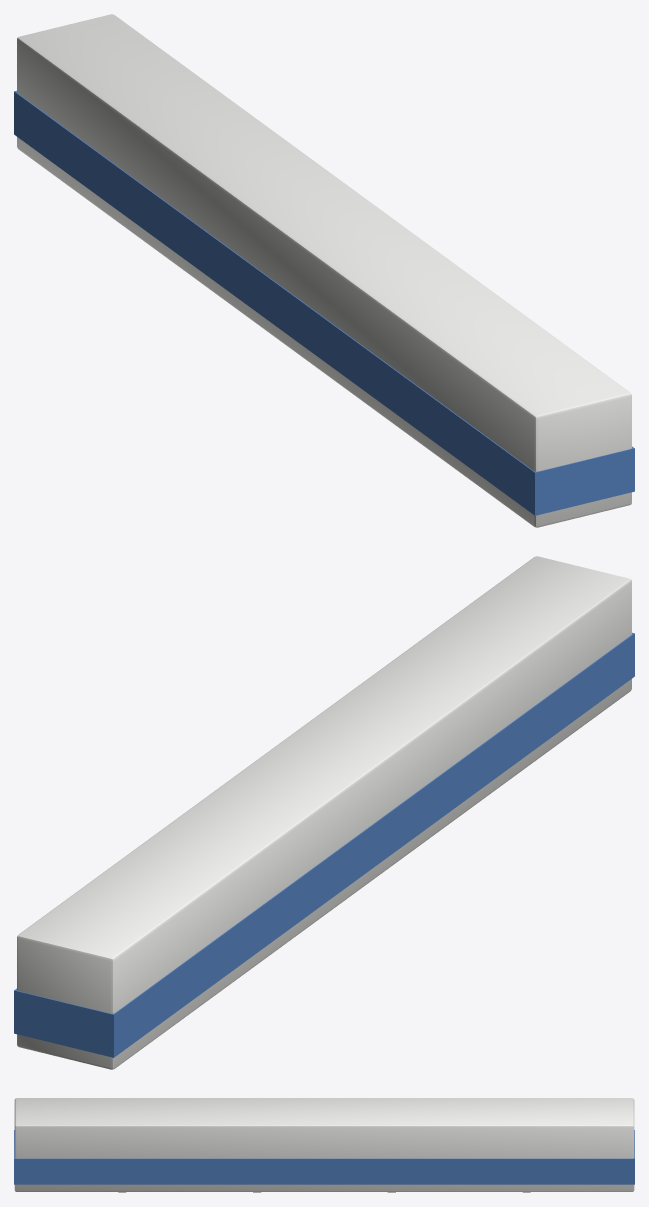
File: peage.glb
The picture shows the model from 3 angles, top to bottom: view 1: azimuth 30°, elevation 25°; view 2: azimuth 150°, elevation 25°; view 3: azimuth 270°, elevation 25°; orthographic projection. The views are drawn at different scales.
Parts seen in each view (by area): view 1: peage; view 2: peage; view 3: peage.
Boxes of the visible parts, left/top/right/bottom form: peage: left=14, top=14, right=634, bottom=527; peage: left=14, top=556, right=634, bottom=1069; peage: left=14, top=1098, right=634, bottom=1192.
Size of the model in its own units: 1.02 by 1.12 by 9.22.
